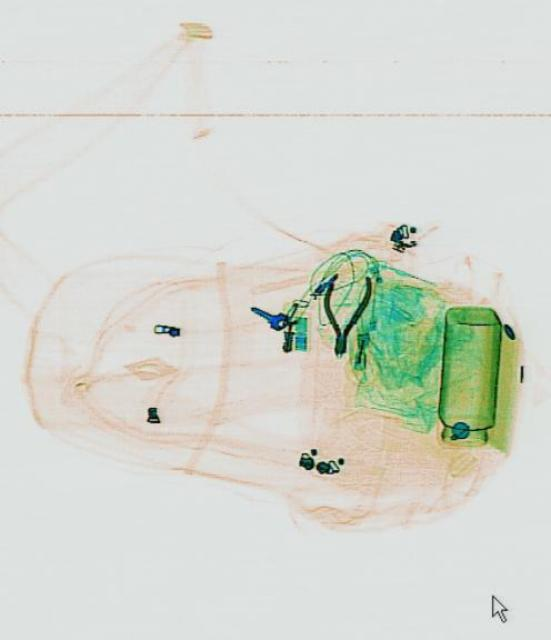Pliers: (315, 269, 373, 359)
